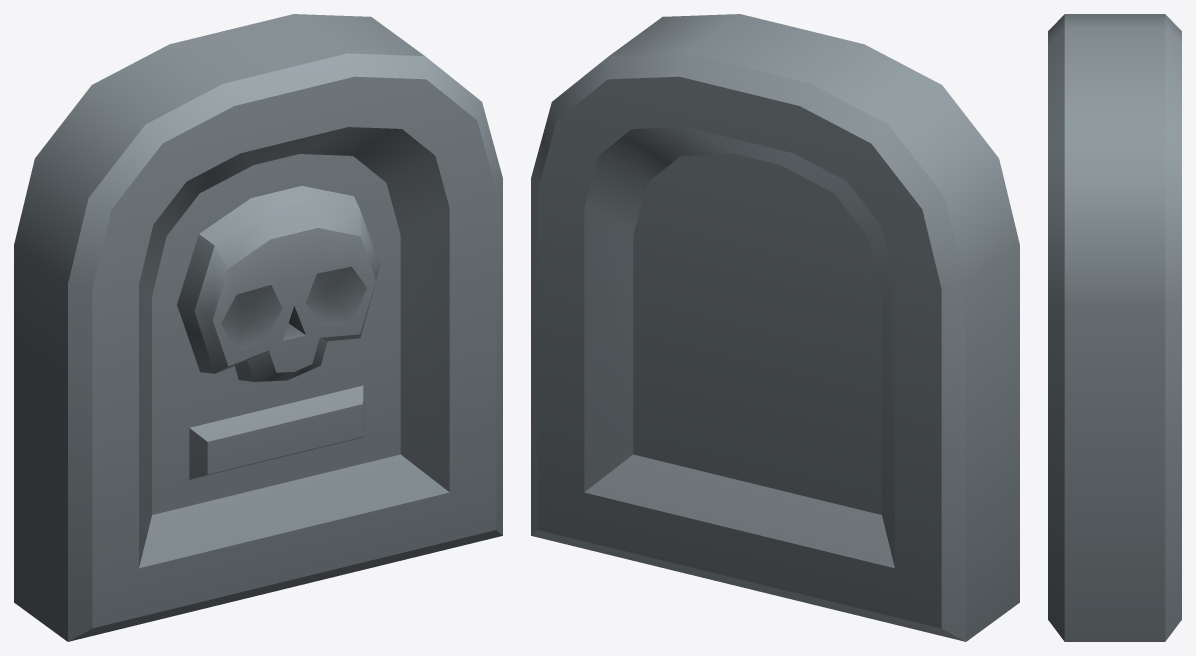
The model's file is kk_gravestone.glb.
The picture shows the model from 3 angles, left to right: view 1: azimuth 30°, elevation 25°; view 2: azimuth 150°, elevation 25°; view 3: azimuth 270°, elevation 25°; orthographic projection. The views are drawn at different scales.
Visible parts, largest first — view 1: gravestone; view 2: gravestone; view 3: gravestone.
Boxes of the visible parts, x1,y1,x2,y2 form: gravestone: [14, 14, 502, 641]; gravestone: [531, 14, 1019, 641]; gravestone: [1048, 14, 1181, 641].
Size of the model in its own units: 1.4 by 1.6 by 0.4001.
1 material, 1 textured.
